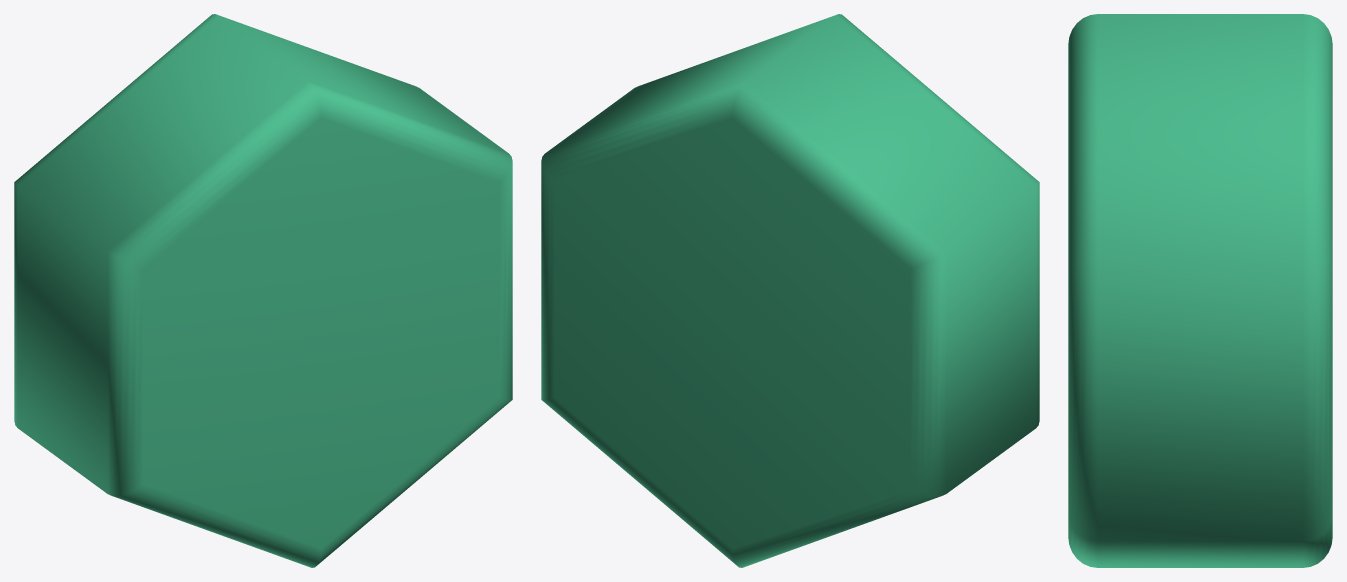
Rendered from NormalTile.fbx.
3 views of the same model, side by side, from view 1: azimuth 30°, elevation 25°; view 2: azimuth 150°, elevation 25°; view 3: azimuth 270°, elevation 25° (orthographic). The views are drawn at different scales.
Parts seen in each view (by area): view 1: Circle.001; view 2: Circle.001; view 3: Circle.001.
Part boxes in pixels (bbox=[...]): Circle.001: bbox=[14, 14, 512, 567]; Circle.001: bbox=[541, 14, 1039, 567]; Circle.001: bbox=[1068, 14, 1332, 567].
Bounding box in the file's own units: 200 × 231 × 100.
